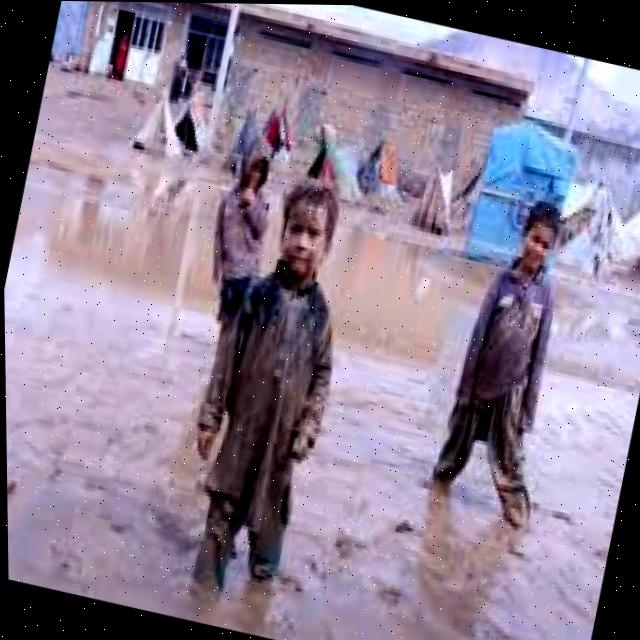civilian: (160, 154, 380, 628), (393, 163, 625, 561), (182, 115, 302, 335)
